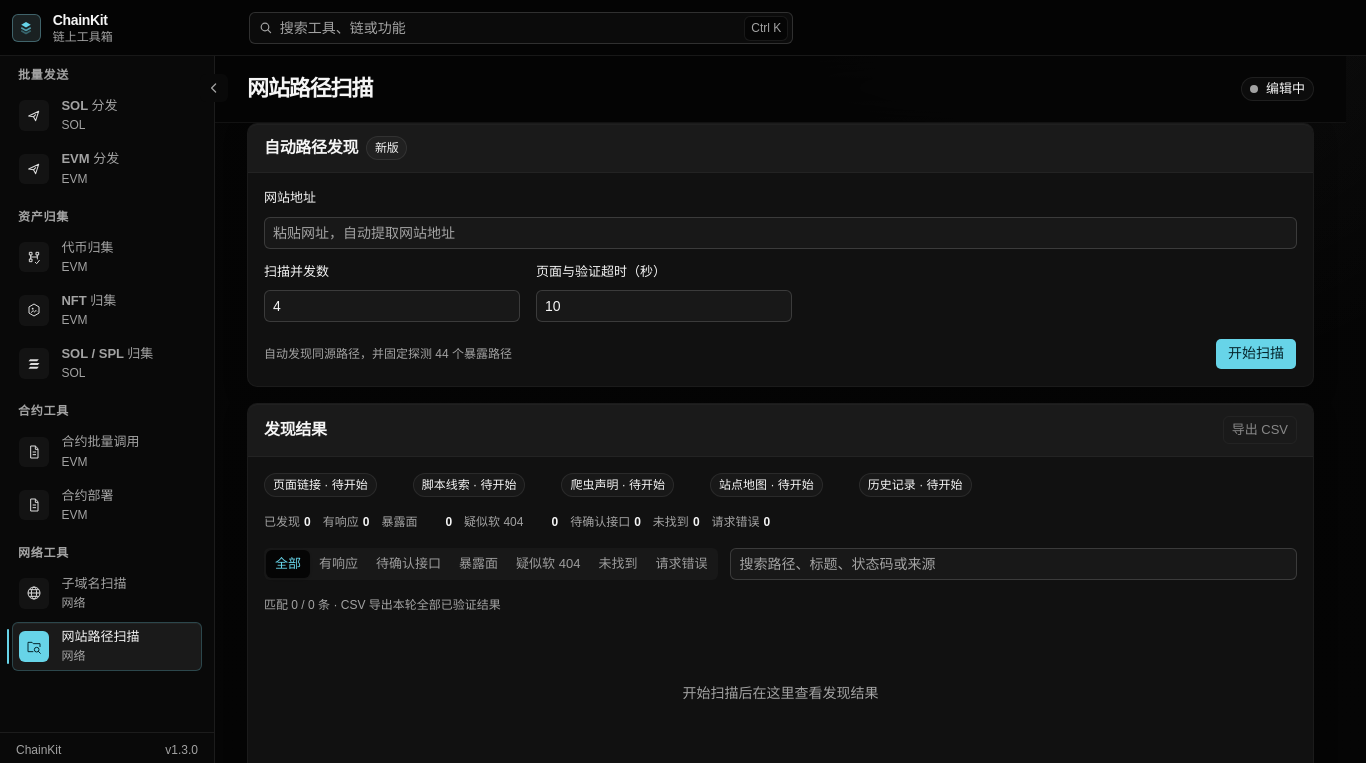
Test case: Automatic website path discovery workbench › retains partial results on a service failure
In the field labelled "网站地址": (780, 233) [264,217,1297,249], type "https://example.com/docs/"
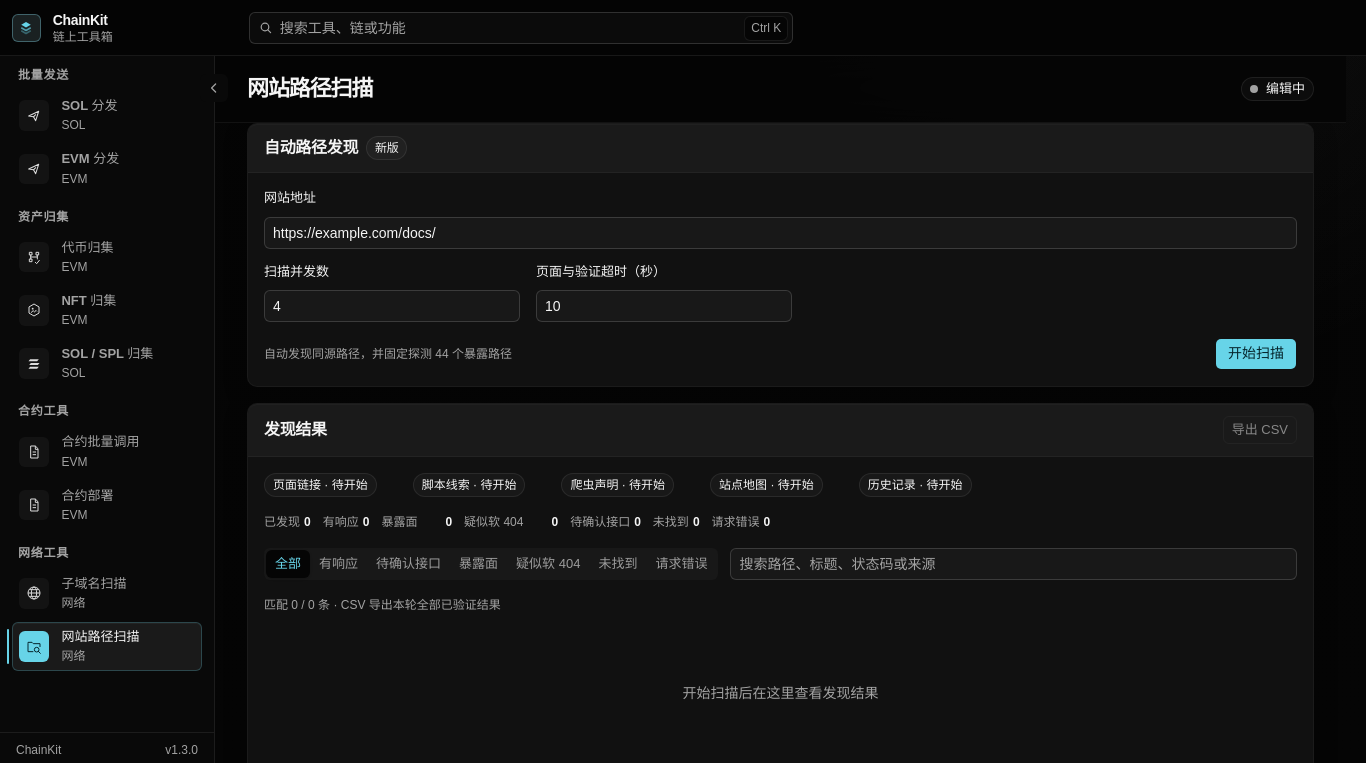
Click the button "开始扫描": (1256, 354) [1215,338,1297,370]
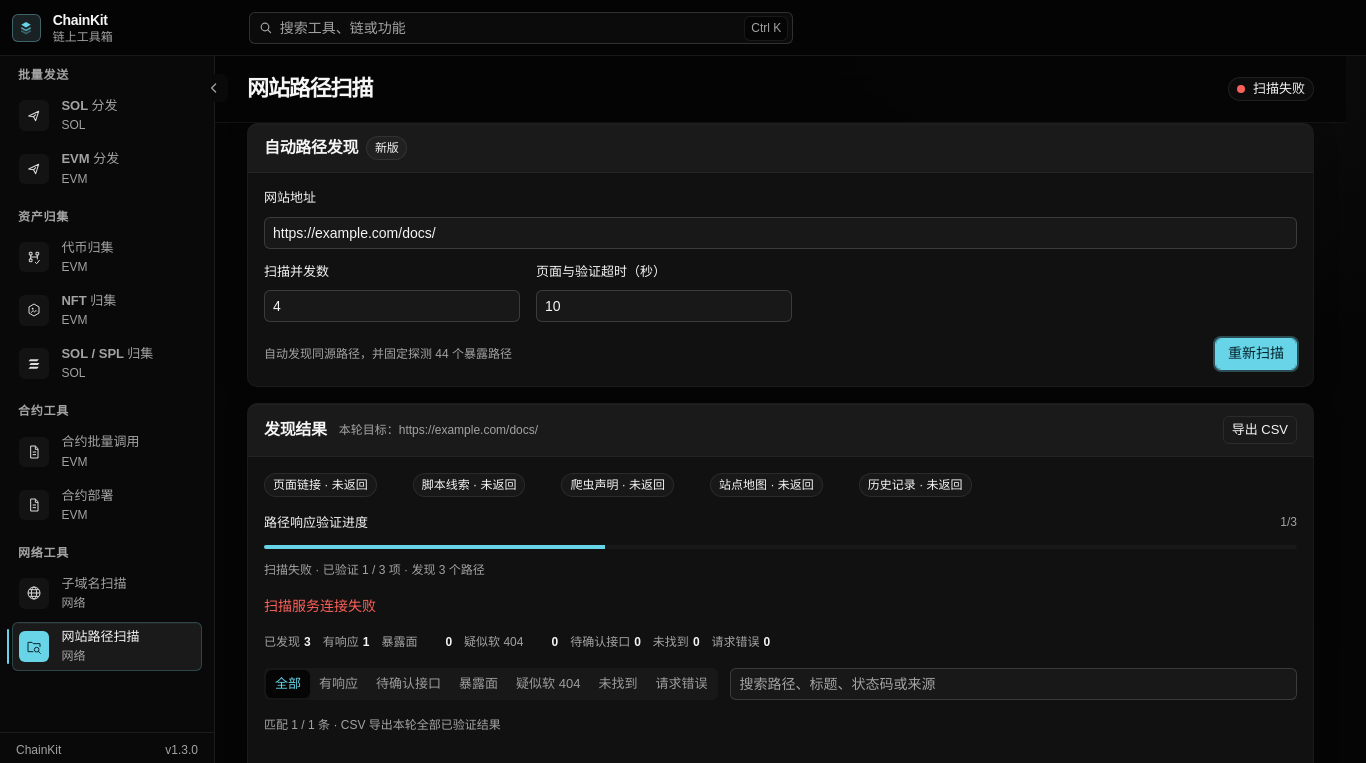
Expected: the field labelled "网站地址" is enabled, [264,217,1297,249]
Expected: the message "扫描服务连接失败" is shown, [264,598,376,614]
Expected: the button "导出 CSV" is enabled, [1223,416,1297,444]
